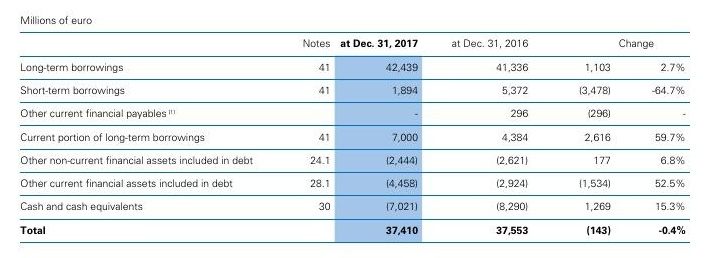table: (0, 0, 720, 258)
